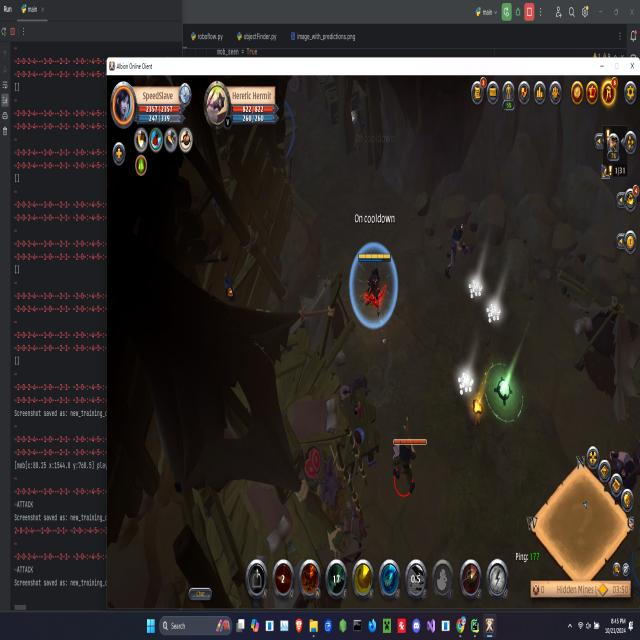ore: (387, 428, 428, 501), (438, 220, 468, 282)
red: (355, 247, 394, 320)
stone: (456, 366, 474, 398), (484, 298, 503, 328), (466, 274, 485, 303)
